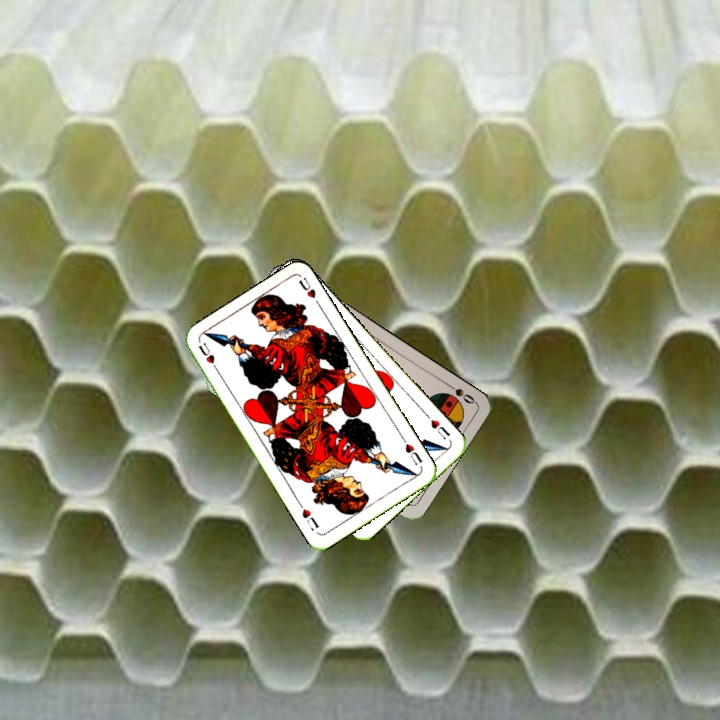HU: (194, 338, 222, 375), (422, 410, 453, 442), (398, 433, 425, 468)
SO: (441, 378, 478, 407)
